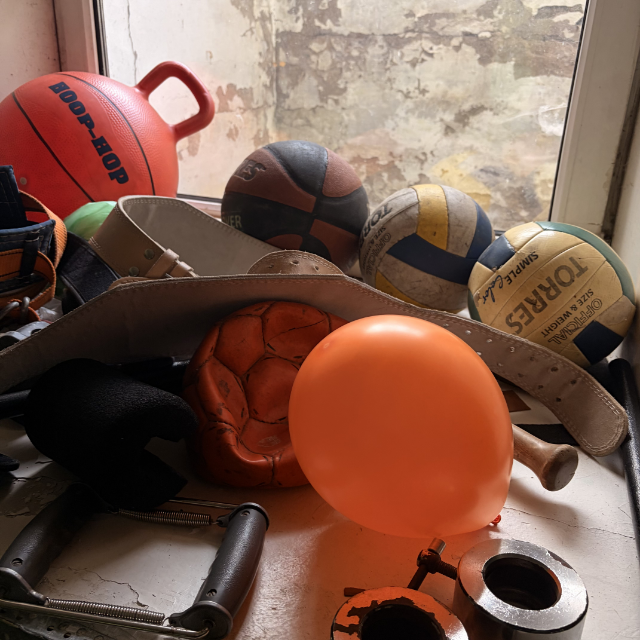balloon: (287, 313, 515, 539)
